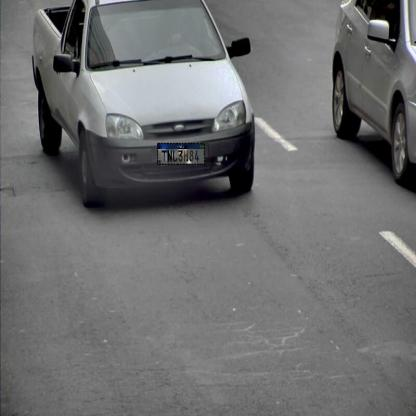PlacaM: (157, 143, 205, 165)
